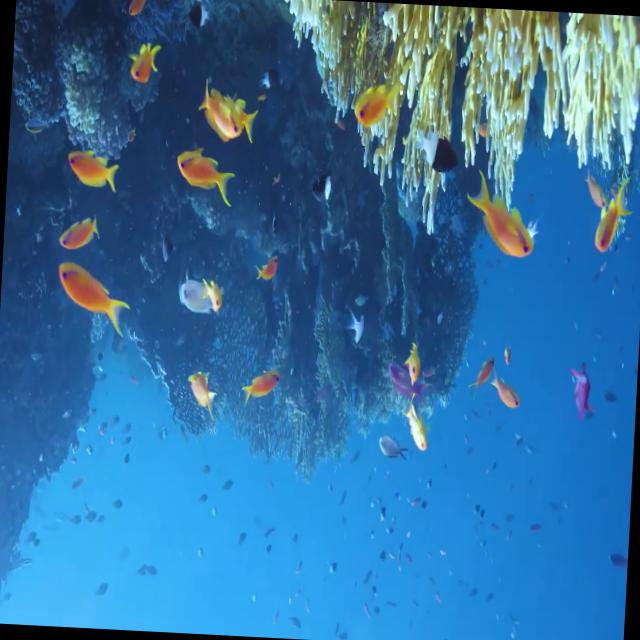fish: (468, 176, 540, 259), (55, 260, 130, 331), (173, 147, 235, 206), (66, 148, 120, 194), (195, 86, 242, 138), (594, 188, 630, 253), (354, 78, 400, 128), (182, 366, 218, 420), (178, 274, 222, 315), (569, 362, 595, 421), (242, 367, 280, 407), (58, 216, 100, 252), (404, 396, 430, 454), (128, 42, 160, 84), (468, 354, 496, 394), (584, 167, 610, 207), (378, 434, 411, 462), (492, 378, 520, 410), (401, 348, 422, 386)
